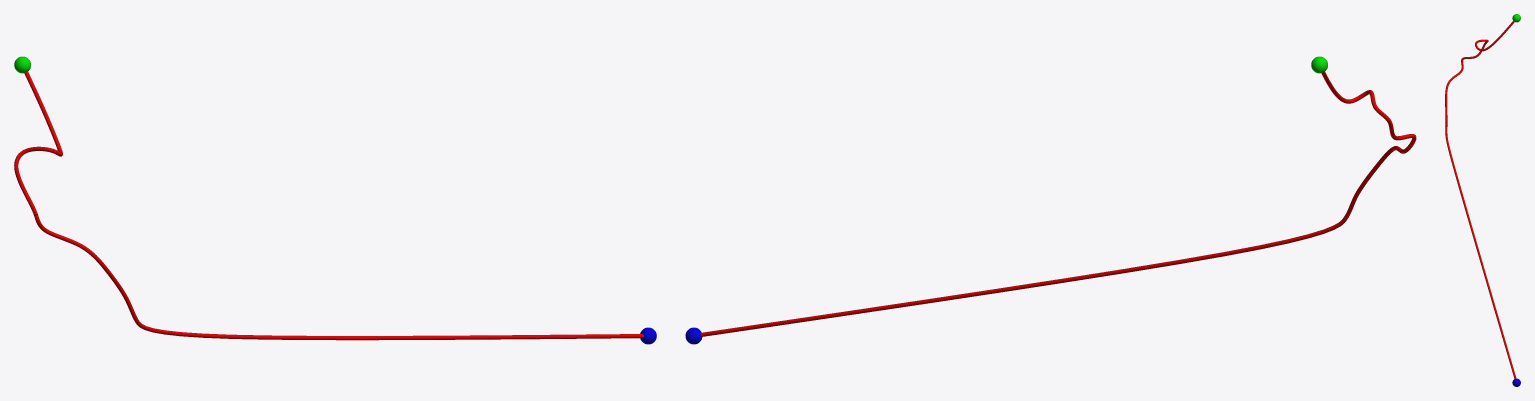
Rendered from paths.obj.
3 renders of one model, left to right at view 1: azimuth 30°, elevation 25°; view 2: azimuth 150°, elevation 25°; view 3: azimuth 270°, elevation 25°, orthographic. The views are drawn at different scales.
Bounding box in the file's own units: 1.83 × 1.14 × 0.3571.
